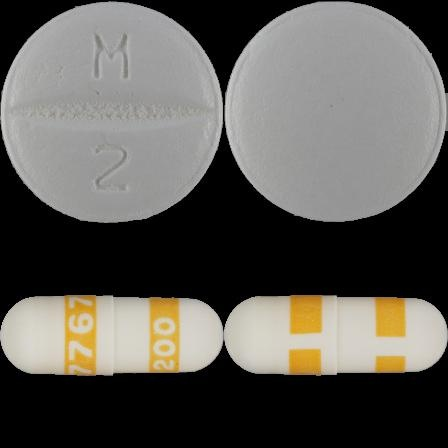45865-798: (0, 0, 224, 224)
